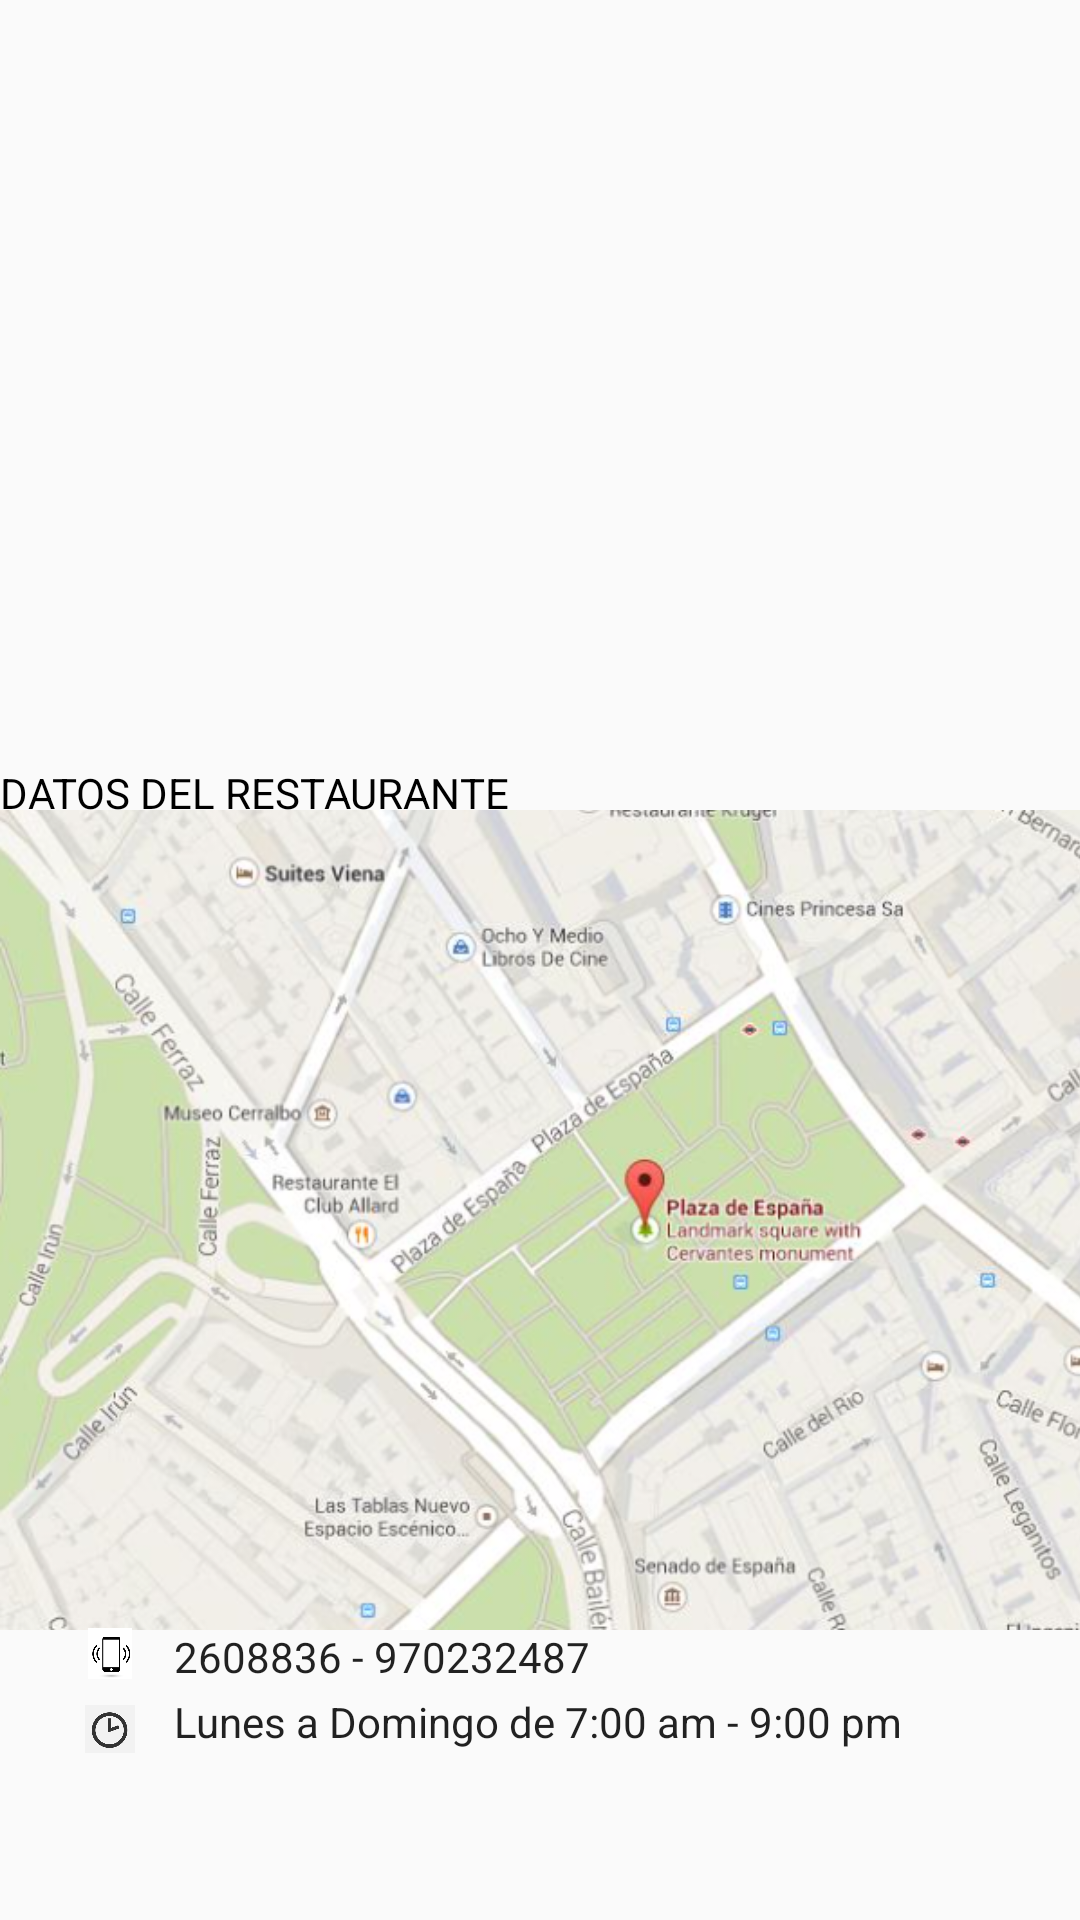

Where icons sit on this 1080 x 1920 app screen, as {"left": x1, "top": y1, "right": x2, "bottom": y2}:
llamada: {"left": 92, "top": 1637, "right": 130, "bottom": 1677}
reloj: {"left": 92, "top": 1712, "right": 128, "bottom": 1748}
